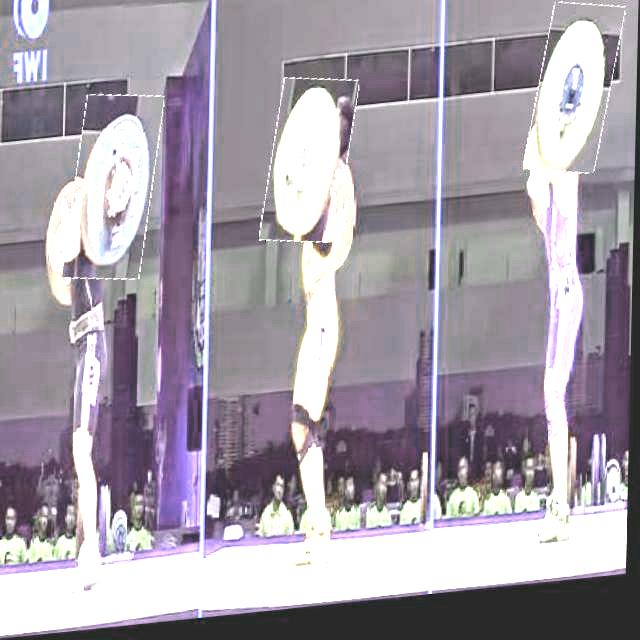barbell: (69, 93, 160, 287), (530, 12, 620, 190), (266, 81, 355, 253)
